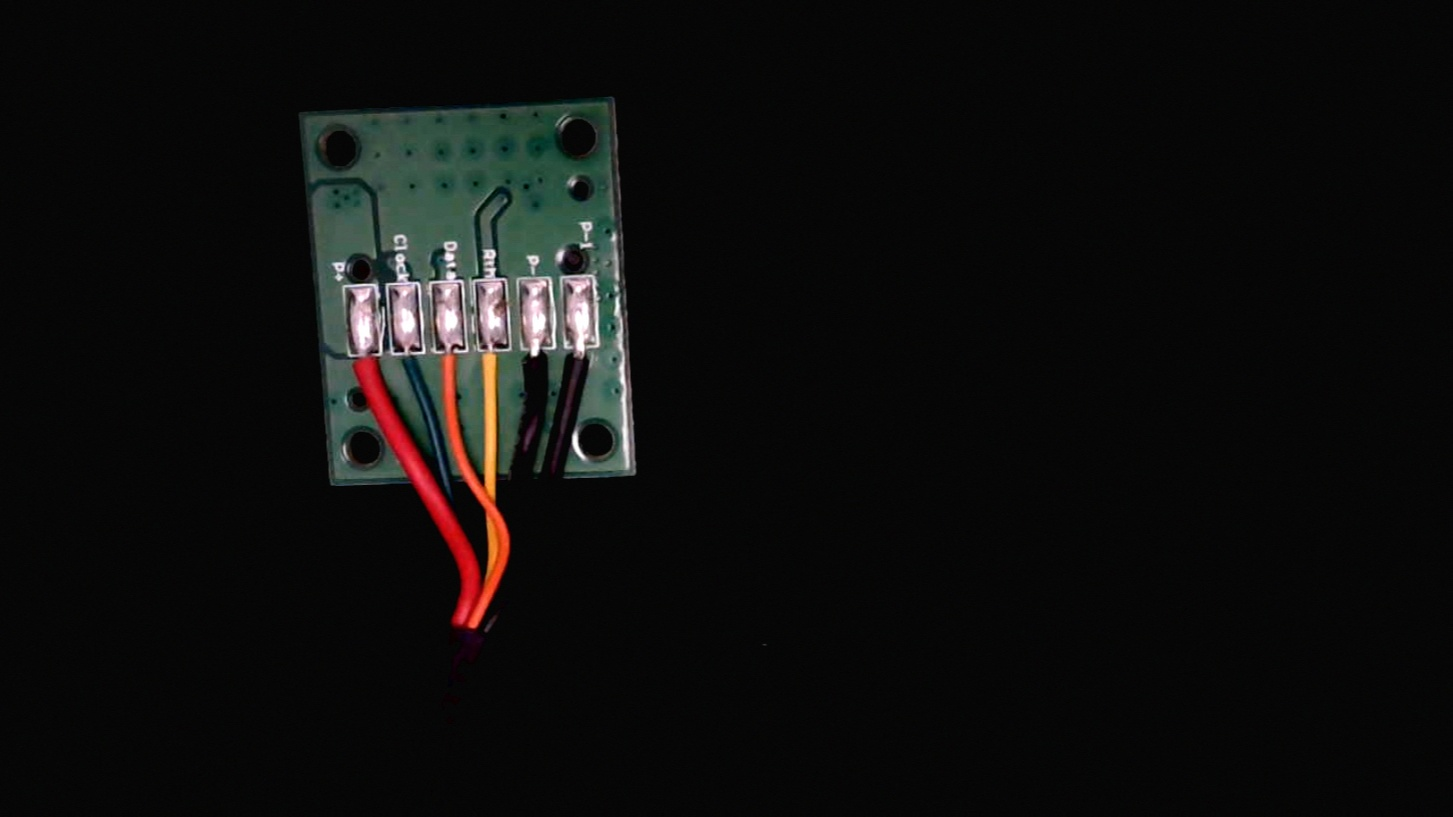Black: (523, 335, 559, 411)
Black1: (567, 333, 604, 406)
Green: (391, 337, 429, 402)
Orange: (435, 339, 469, 392)
Red: (349, 343, 386, 411)
Yellow: (474, 335, 516, 405)
